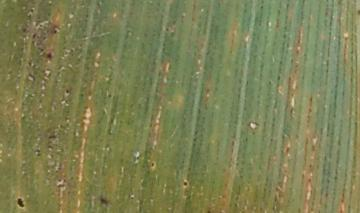tarspot: (99, 197, 110, 207), (17, 197, 25, 208), (45, 52, 53, 62), (34, 147, 42, 157), (20, 25, 28, 34), (50, 27, 59, 35), (63, 87, 71, 95), (181, 178, 188, 187), (37, 45, 45, 52), (40, 34, 48, 41), (47, 134, 57, 139), (107, 91, 113, 99), (29, 6, 35, 14), (150, 161, 156, 168), (31, 33, 38, 39), (38, 22, 43, 29), (356, 8, 360, 16), (259, 4, 264, 9)
